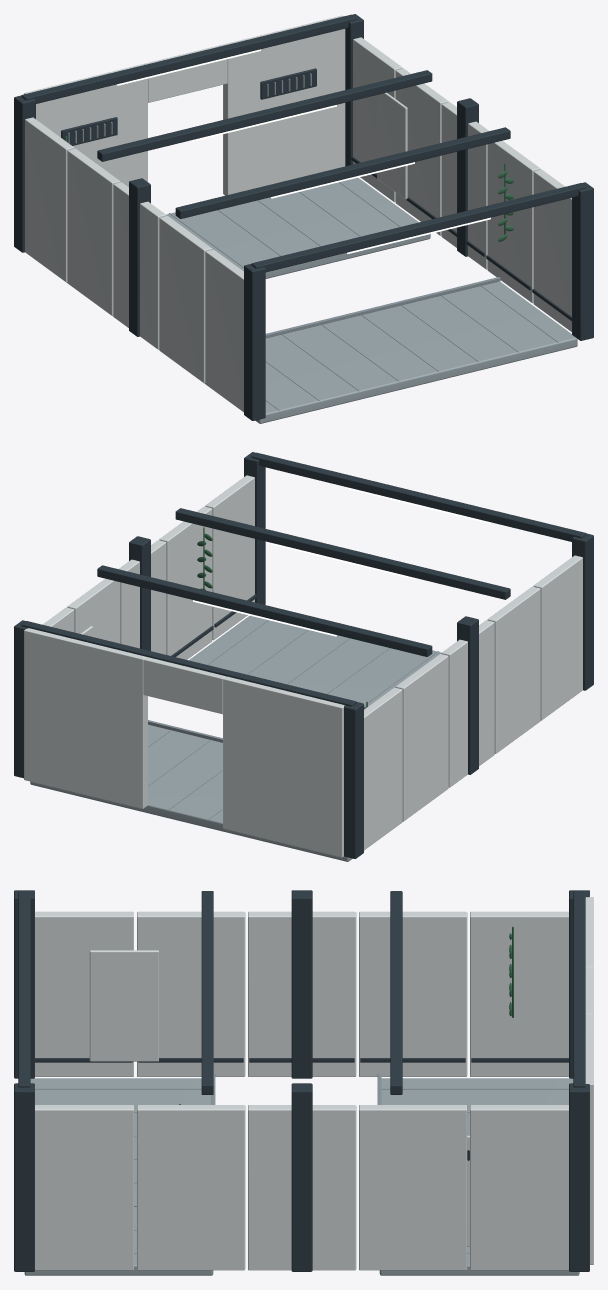
File: room2.glb
3 views of the same model, one above another, from view 1: azimuth 30°, elevation 25°; view 2: azimuth 150°, elevation 25°; view 3: azimuth 270°, elevation 25° (orthographic). The views are drawn at different scales.
Parts seen in each view (by area): view 1: Near platform.001, Rear wall 2.001, Far platform.001, Wall structural -1_3.001, Wall structural -1_1.001, Rear wall -2.001, Wall structural -1_4.001, Wall structural 1_1.001, Wall structural -1_0.001, Wall structural -1_2.001, Wall structural 1_0.001, Wall structural 1_3.001 (+17 smaller); view 2: Rear wall 2.001, Rear wall -2.001, Near platform.001, Far platform.001, Wall structural -1_1.001, Wall structural -1_3.001, Wall structural -1_0.001, Wall structural -1_4.001, Wall structural 1_1.001, Wall structural -1_2.001, Wall structural 1_0.001, Roof beam 6.001 (+12 smaller); view 3: Wall structural 1_1.001, Wall structural 1_3.001, Wall structural 1_0.001, Wall structural 1_4.001, Wall structural -1_3.001, Wall structural -1_4.001, Wall structural 1_2.001, Wall structural -1_2.001, Wall structural -1_1.001, Wall structural -1_0.001, Near portal candidate.001, Far platform.001 (+13 smaller).
Boxes of the visible parts, x1,y1,x2,y2 form: Near platform.001: [204, 281, 577, 423]; Rear wall 2.001: [223, 15, 345, 195]; Far platform.001: [66, 177, 430, 282]; Wall structural -1_3.001: [67, 148, 120, 315]; Wall structural -1_1.001: [159, 216, 212, 383]; Rear wall -2.001: [24, 64, 147, 186]; Wall structural -1_4.001: [25, 117, 74, 282]; Wall structural 1_1.001: [487, 140, 540, 303]; Wall structural -1_0.001: [205, 249, 243, 412]; Wall structural -1_2.001: [113, 182, 166, 349]; Wall structural 1_0.001: [533, 169, 571, 331]; Wall structural 1_3.001: [395, 68, 448, 235]; Rear wall 2.001: [24, 628, 147, 808]; Rear wall -2.001: [223, 676, 344, 857]; Near platform.001: [189, 615, 541, 720]; Far platform.001: [30, 724, 403, 861]; Wall structural -1_1.001: [487, 586, 540, 753]; Wall structural -1_3.001: [395, 654, 448, 821]; Wall structural -1_0.001: [533, 555, 582, 720]; Wall structural -1_4.001: [364, 687, 402, 850]; Wall structural 1_1.001: [159, 506, 212, 659]; Wall structural -1_2.001: [441, 620, 494, 787]; Wall structural 1_0.001: [205, 475, 254, 640]; Roof beam 6.001: [97, 565, 432, 656]; Wall structural 1_1.001: [137, 1105, 245, 1270]; Wall structural 1_3.001: [359, 1105, 467, 1270]; Wall structural 1_0.001: [35, 1105, 133, 1270]; Wall structural 1_4.001: [470, 1105, 568, 1270]; Wall structural -1_3.001: [359, 911, 467, 1076]; Wall structural -1_4.001: [470, 911, 568, 1076]; Wall structural 1_2.001: [248, 1105, 356, 1270]; Wall structural -1_2.001: [248, 911, 356, 1076]; Wall structural -1_1.001: [137, 911, 245, 1076]; Wall structural -1_0.001: [35, 911, 133, 1076]; Near portal candidate.001: [89, 950, 158, 1061]; Far platform.001: [379, 1078, 579, 1275].
Size of the model in its own units: 8.59 by 3.87 by 10.45.
